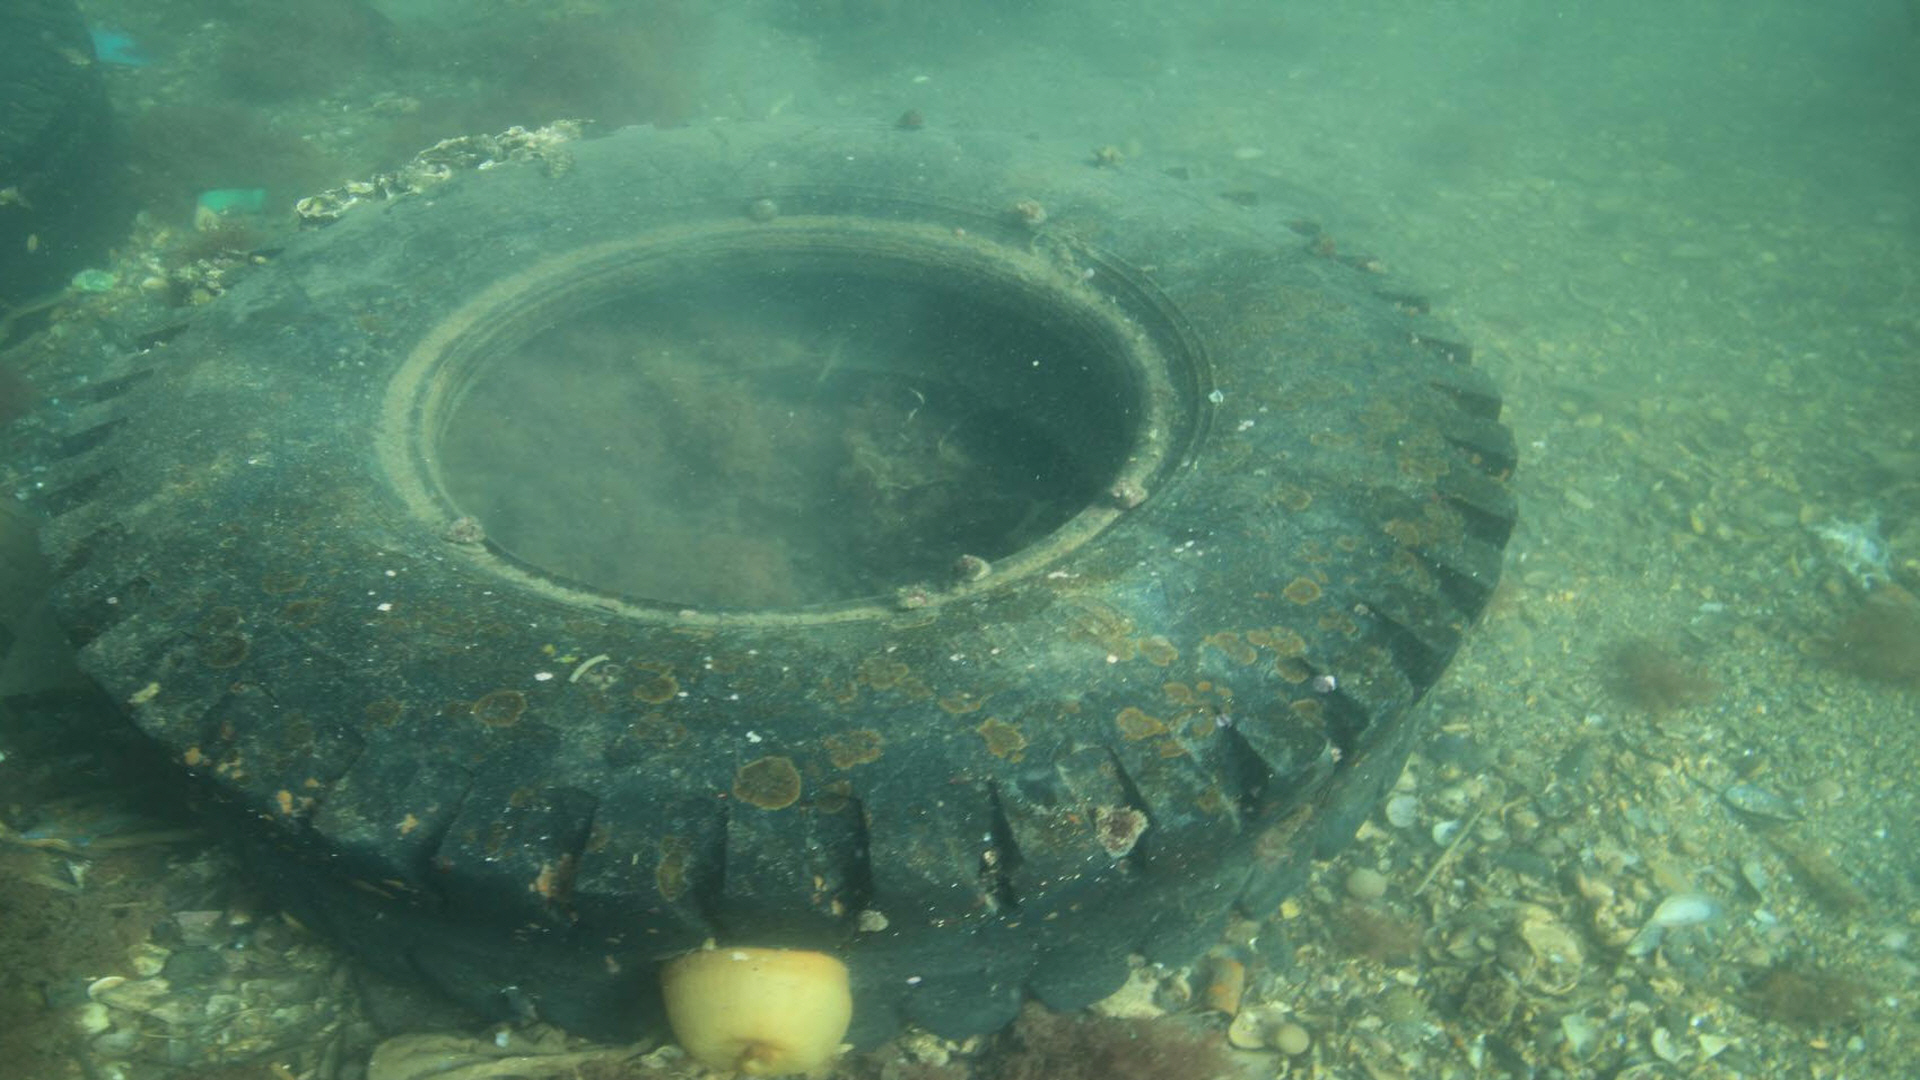tire: (42, 124, 1520, 1044)
